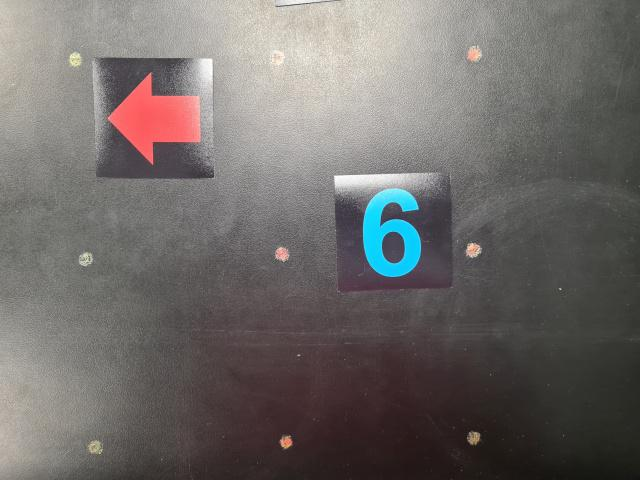6: (333, 172, 453, 291)
left: (90, 58, 213, 179)
